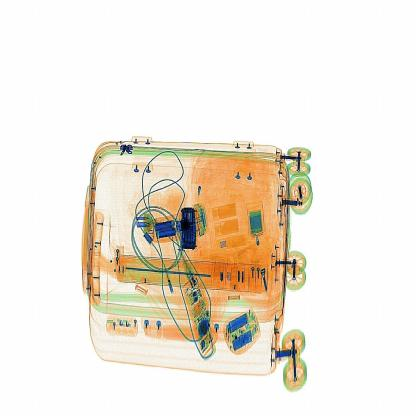scissors: (172, 197, 210, 254)
